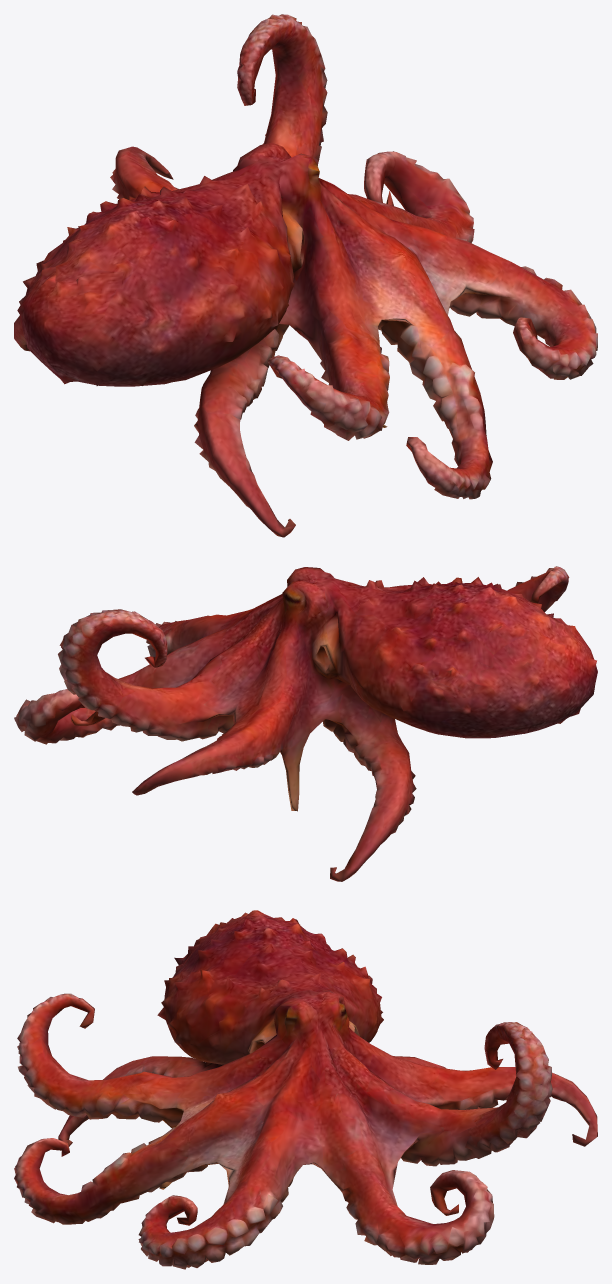
File: octopus.glb
The picture shows the model from 3 angles, top to bottom: view 1: azimuth 30°, elevation 25°; view 2: azimuth 150°, elevation 25°; view 3: azimuth 270°, elevation 25°; orthographic projection. The views are drawn at different scales.
Parts seen in each view (by area): view 1: tripo_node_91e80242-be98-4a6a-b7fc-4bf942bc1fde; view 2: tripo_node_91e80242-be98-4a6a-b7fc-4bf942bc1fde; view 3: tripo_node_91e80242-be98-4a6a-b7fc-4bf942bc1fde.
Boxes of the visible parts, x1,y1,x2,y2 form: tripo_node_91e80242-be98-4a6a-b7fc-4bf942bc1fde: [14, 14, 597, 537]; tripo_node_91e80242-be98-4a6a-b7fc-4bf942bc1fde: [14, 566, 597, 881]; tripo_node_91e80242-be98-4a6a-b7fc-4bf942bc1fde: [14, 910, 597, 1269].
Bounding box in the file's own units: 0.9277 × 0.4294 × 1.
Materials: 1 (1 with a texture image).
